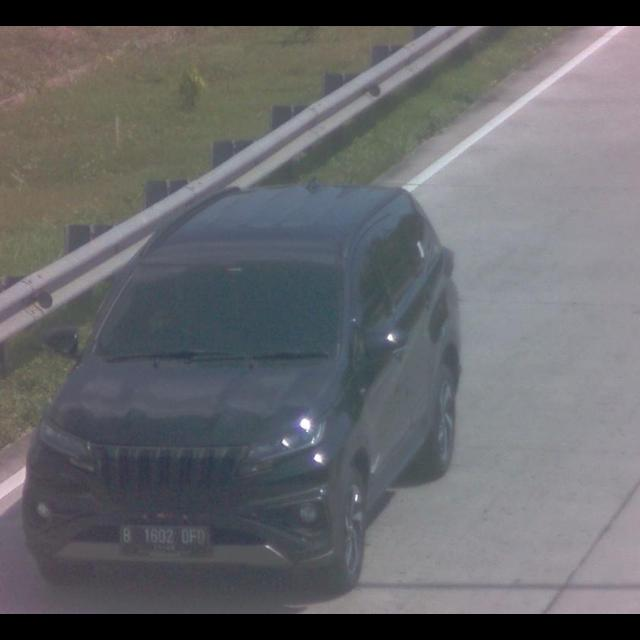plate: (116, 523, 210, 559)
